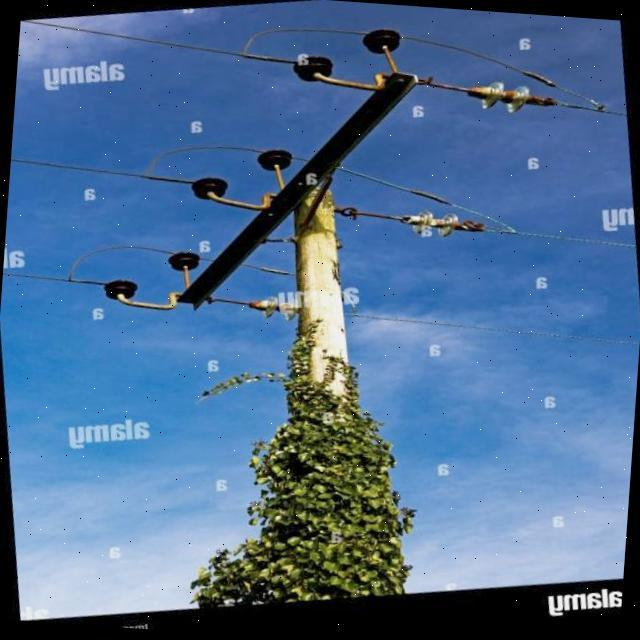critical vegetation: (154, 131, 456, 606)
